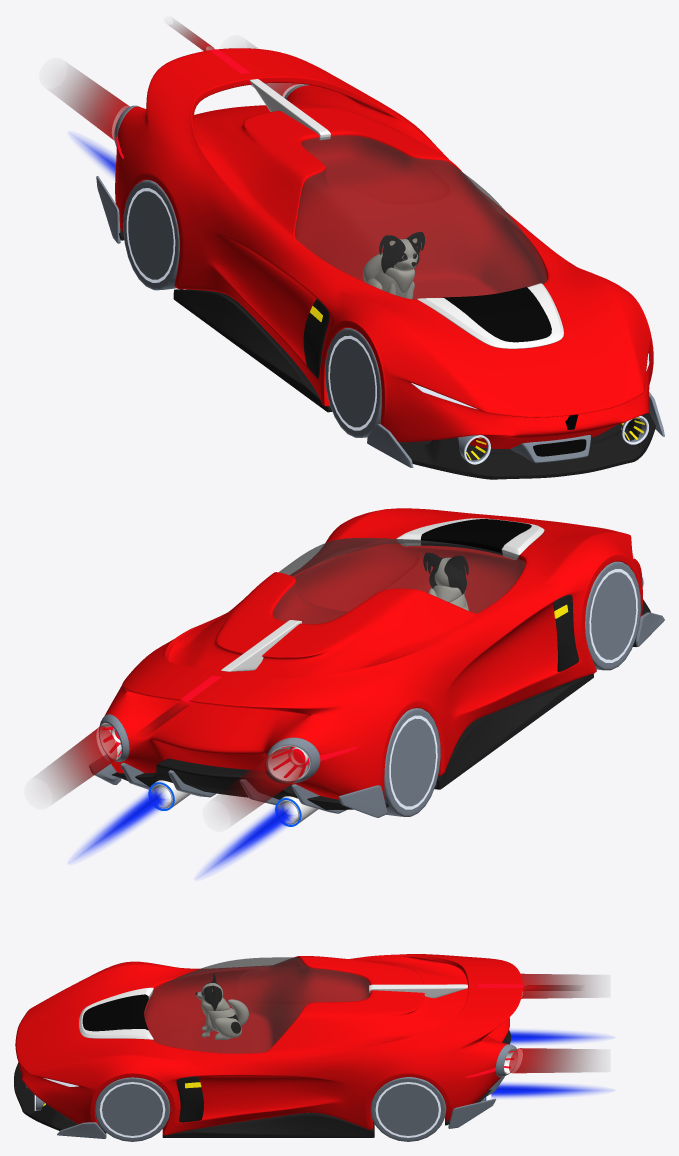
The picture shows the model from 3 angles, top to bottom: view 1: azimuth 30°, elevation 25°; view 2: azimuth 150°, elevation 25°; view 3: azimuth 270°, elevation 25°; orthographic projection. The views are drawn at different scales.
Parts seen in each view (by area): view 1: Body.005, Window.001, Bottom_Part.005, Wheel, Hood_Acc, Flame1, Hood_Part, Front_Acc.001, Side_Part, Bottom_Part.003, Body.002, Roundcube.001 (+2 smaller); view 2: Body.005, Window.001, Wheel, Flame1, Bottom_Part.005, Bottom_Part.001, Bottom_Part.002, Hood_Acc, Rear_Lamp, Plane.001, Plane.003, Front_LED.001 (+5 smaller); view 3: Body.005, Window.001, Wheel, Bottom_Part.005, Flame1, Hood_Acc, Plane.003, Hood_Part, Plane.001, Side_Part, Body.002, Bottom_Part.002 (+5 smaller).
Part boxes in pixels (x1,y1,x2,y2): Body.005: (115,48,653,448); Window.001: (295,135,546,299); Bottom_Part.005: (173,289,655,479); Wheel: (123,180,381,437); Hood_Acc: (443,287,551,342); Flame1: (53,22,303,140); Hood_Part: (417,283,563,348); Front_Acc.001: (510,435,590,463); Side_Part: (303,299,329,378); Bottom_Part.003: (367,392,664,467); Body.002: (250,79,330,140); Roundcube.001: (379,232,424,273); Body.005: (104,508,642,799); Window.001: (272,538,525,624); Wheel: (384,561,640,816); Flame1: (39,703,305,822); Bottom_Part.005: (434,599,650,789); Bottom_Part.001: (112,758,388,809); Bottom_Part.002: (89,754,387,817); Hood_Acc: (421,519,531,555); Rear_Lamp: (99,714,320,783); Plane.001: (198,803,294,877); Plane.003: (71,787,167,861); Front_LED.001: (148,780,318,826); Body.005: (15,954,522,1135); Window.001: (144,957,370,1053); Wheel: (94,1077,446,1141); Bottom_Part.005: (14,1063,374,1137); Flame1: (509,973,597,1073); Hood_Acc: (82,994,148,1031); Plane.003: (491,1083,610,1097); Hood_Part: (79,987,153,1039); Plane.001: (510,1030,610,1044); Side_Part: (176,1076,203,1122); Body.002: (369,984,467,998); Bottom_Part.002: (448,1076,504,1128).
Size of the model in its own units: 2.17 by 1.33 by 6.36.
16 materials, 6 textured.
